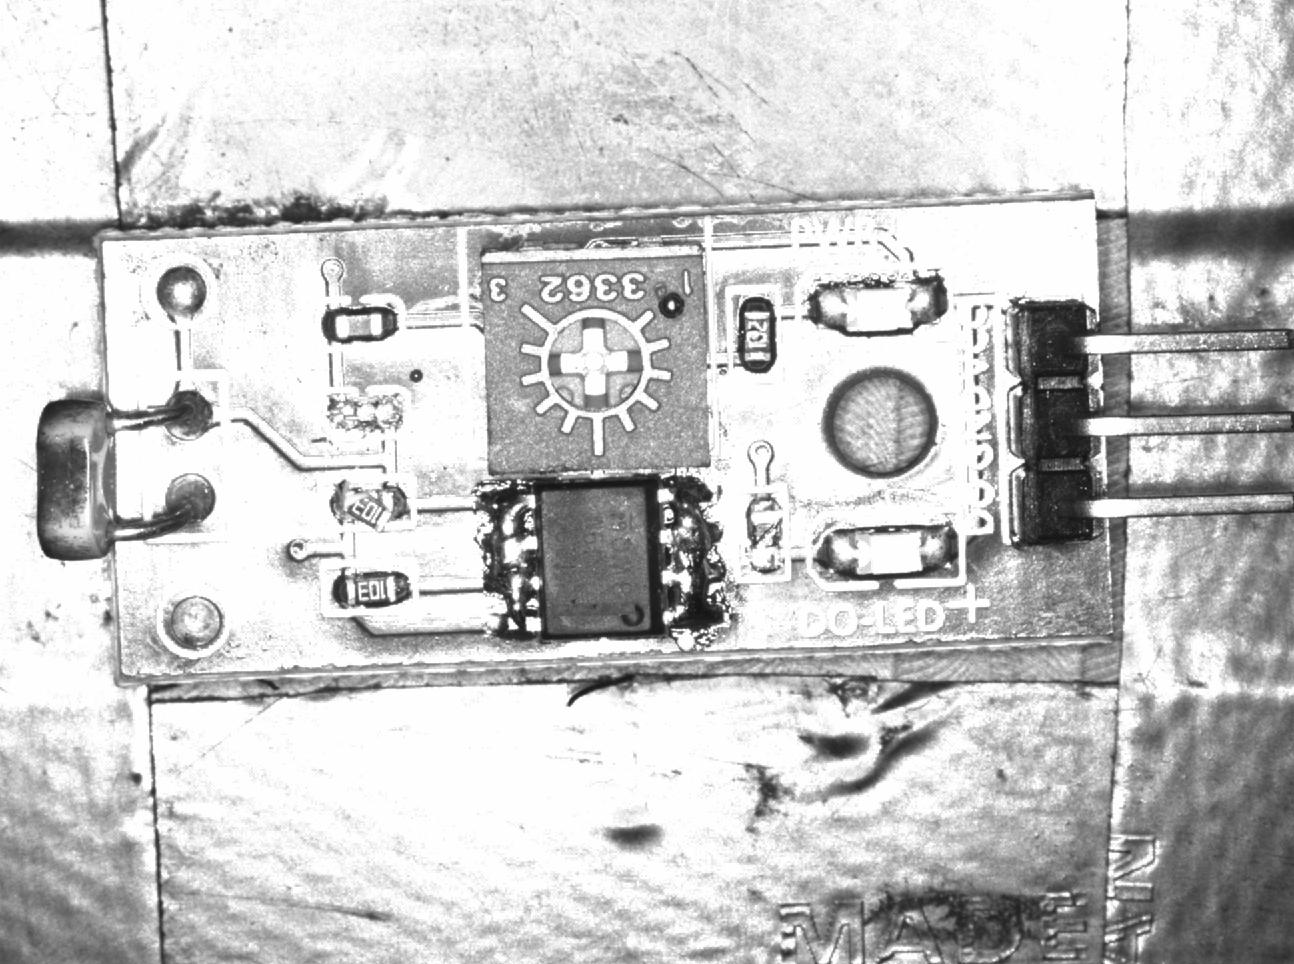bridge: (657, 475, 736, 640), (477, 480, 544, 641)
lifted: (319, 479, 417, 532)
miss: (734, 486, 791, 582), (316, 388, 416, 440)
ok: (320, 561, 419, 615), (730, 288, 784, 382), (317, 298, 405, 346)
